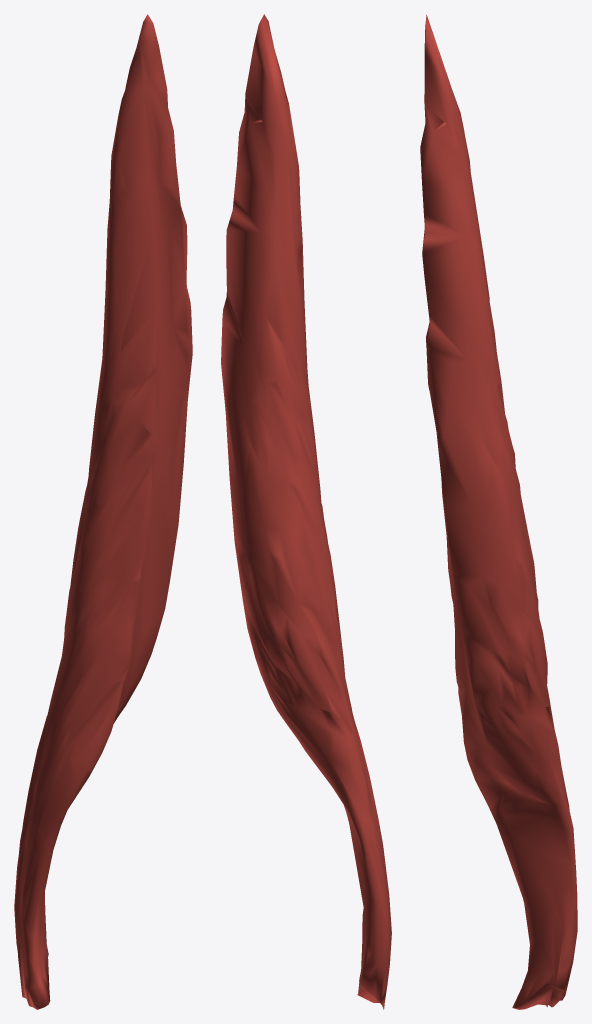
File: musculos-short-head-of-biceps-femoris-r.glb
The picture shows the model from 3 angles, left to right: view 1: azimuth 30°, elevation 25°; view 2: azimuth 210°, elevation 25°; view 3: azimuth 270°, elevation 25°; orthographic projection. The views are drawn at different scales.
Visible parts, largest first — view 1: Short head of biceps femoris.r; view 2: Short head of biceps femoris.r; view 3: Short head of biceps femoris.r.
Part boxes in pixels (x1,y1,x2,y2): Short head of biceps femoris.r: [14, 14, 192, 1009]; Short head of biceps femoris.r: [221, 14, 391, 1009]; Short head of biceps femoris.r: [420, 14, 577, 1009].
Size of the model in its own units: 0.0368 by 0.3013 by 0.0419.
